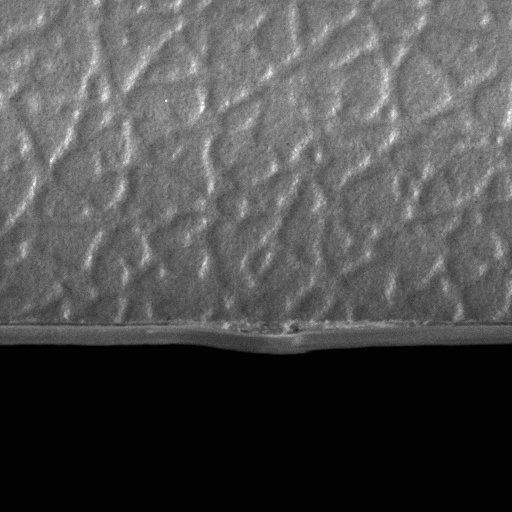kaijiao: (194, 316, 399, 359)
